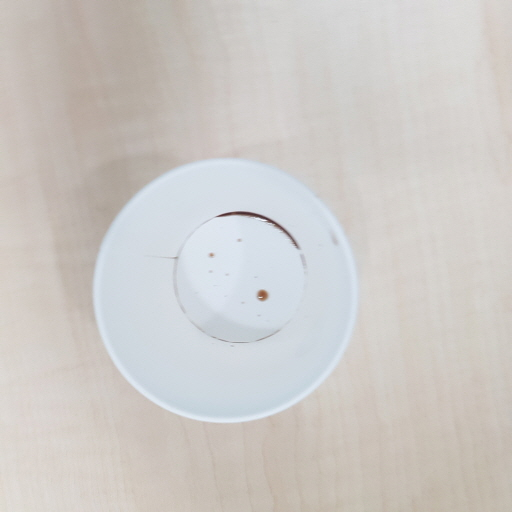Paper_1: (95, 156, 361, 423)
